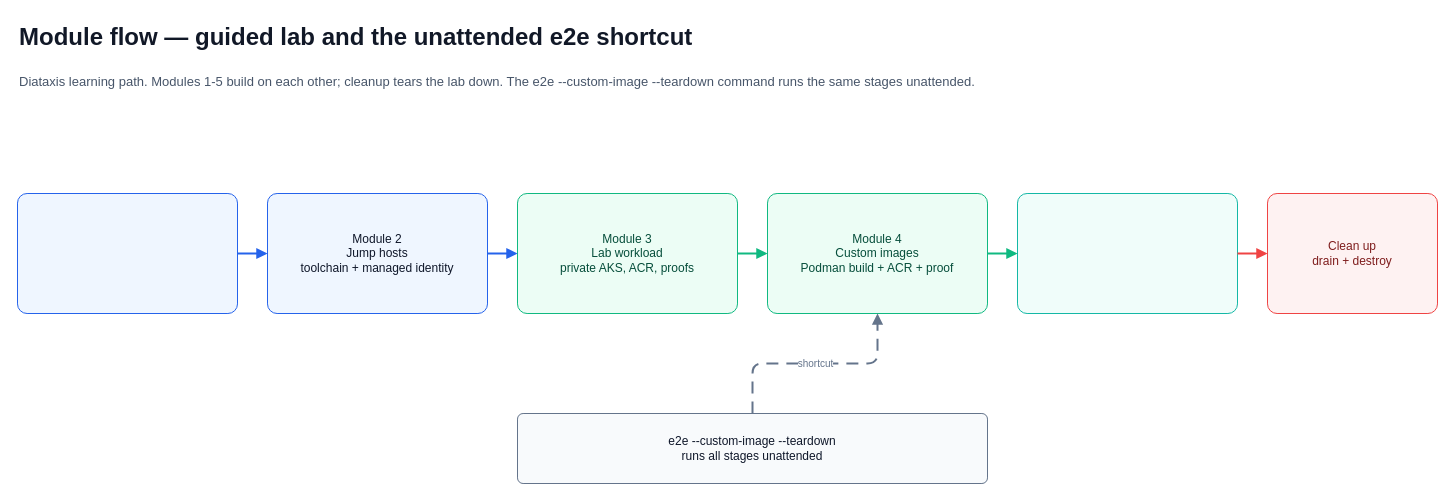
The diagram is 1455 pixels wide and 501 high, and some of its shapes have lost their labels. The shapes that lost their labels are listed below. From the top down, each one's centre as x and y in pixels, then its label:
At pixel 127 253: "Module 1 Foundation network, Bastion, jump hosts".
At pixel 1127 253: "Module 5 Image Integrity sign + verify (Ratify audit)".
